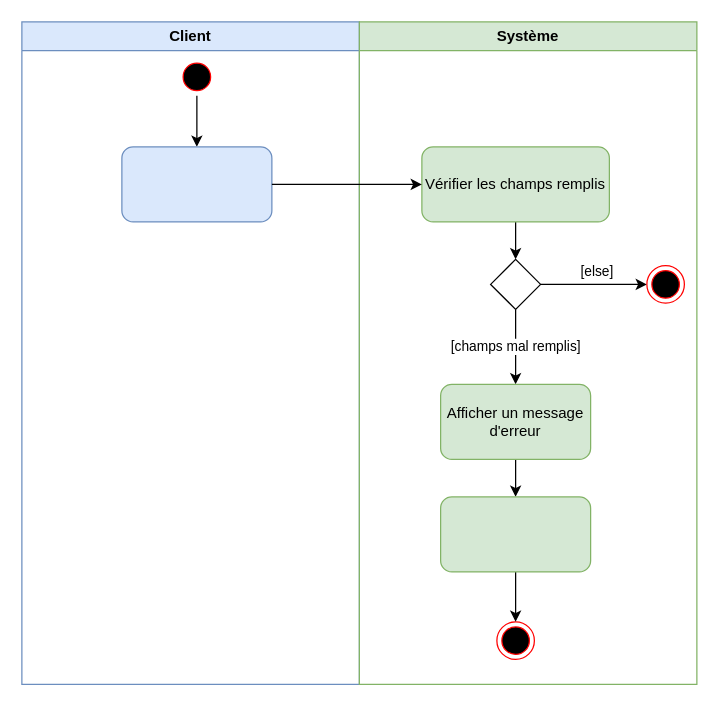
Some shapes in this 719 by 706 pixel diagram are drawn without their labels. The centre of each missing label's shape, as x and y in pixels:
Cliquer sur le bouton "Save": (x=196, y=184)
Retourner sur l'interface de création des questions: (x=515, y=534)
